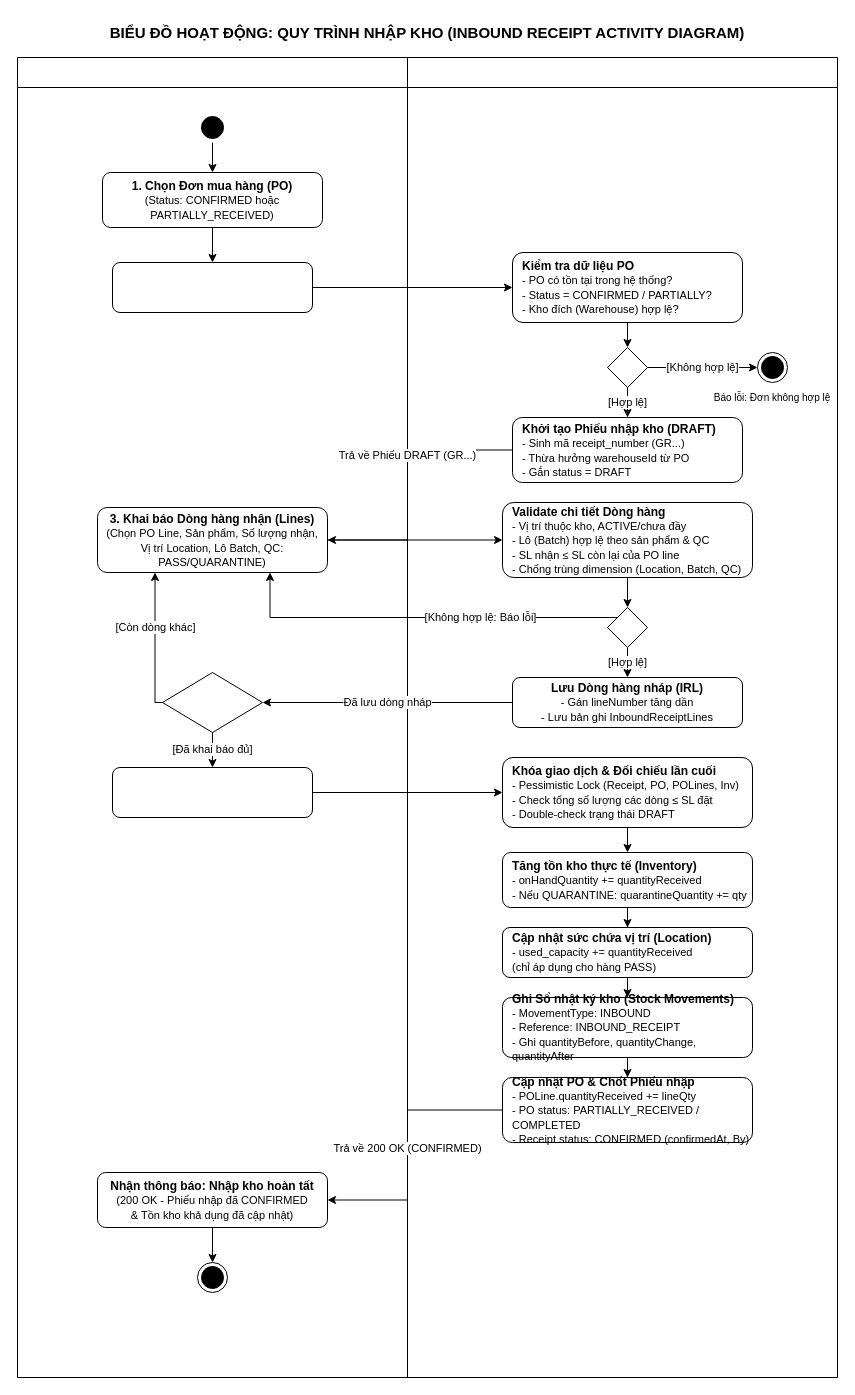
The diagram is 855 pixels wide and 1395 high, and some of its shapes have lost their labels. Here are the shapes that lost their labels. From the top down, the box of each, then its label:
(112, 262, 312, 312): 2. Yêu cầu Tạo phiếu nhập kho (POST /api/v1/inbound-receipts)
(162, 672, 262, 732): Còn dòng hàng khác?
(16, 56, 408, 1378): Nhân viên kho (Warehouse Operator)
(406, 56, 838, 1378): Hệ thống WHS (WHS System)
(112, 766, 312, 818): 4. Xác nhận Nhập kho (PUT /api/v1/inbound-receipts/{id}/confirm)
